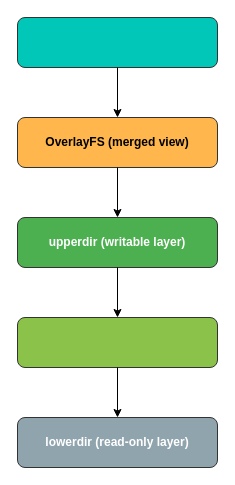
Some shapes in this 235 by 485 pixel diagram are drawn without their labels. Each missing label, with the box of its shape:
Client (app): (16, 16, 218, 68)
workdir (scratch space): (16, 316, 218, 368)
